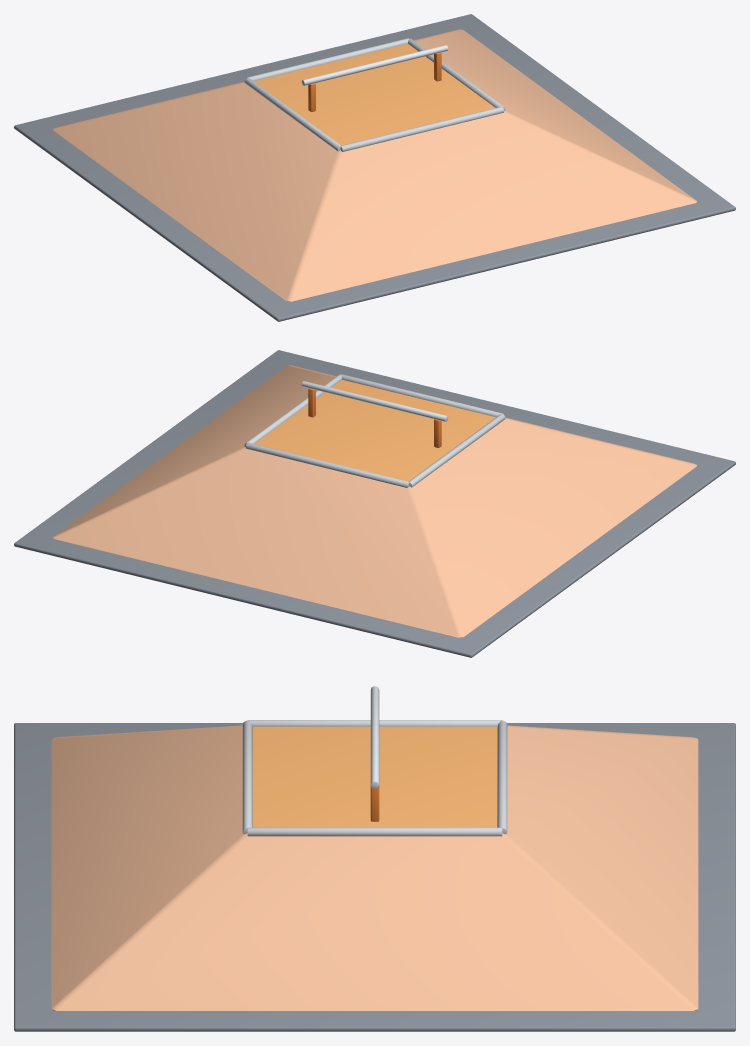
Rendered from skate_funbox.glb.
The picture shows the model from 3 angles, top to bottom: view 1: azimuth 30°, elevation 25°; view 2: azimuth 150°, elevation 25°; view 3: azimuth 270°, elevation 25°; orthographic projection. The views are drawn at different scales.
Parts seen in each view (by area): view 1: colisao_funbox, skate_funbox; view 2: colisao_funbox, skate_funbox; view 3: colisao_funbox, skate_funbox.
Part boxes in pixels (<box>): colisao_funbox: <box>53,29,696,301</box>; skate_funbox: <box>14,14,735,321</box>; colisao_funbox: <box>53,365,696,637</box>; skate_funbox: <box>14,350,735,657</box>; colisao_funbox: <box>51,725,698,1010</box>; skate_funbox: <box>14,686,735,1031</box>.
Size of the model in its own units: 5.1 by 1.14 by 5.1.
1 material, 1 textured.
